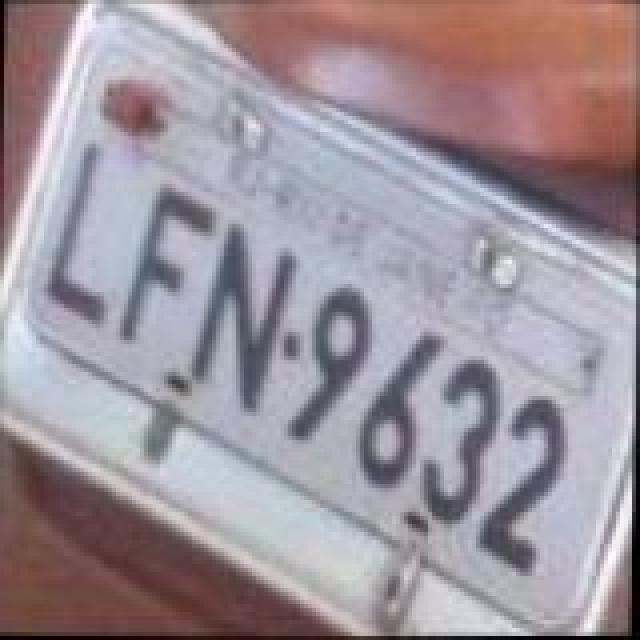2: (474, 396, 574, 580)
3: (420, 358, 508, 522)
6: (350, 326, 450, 490)
9: (288, 286, 380, 446)
F: (114, 180, 222, 344)
L: (36, 142, 108, 330)
N: (188, 218, 304, 414)
